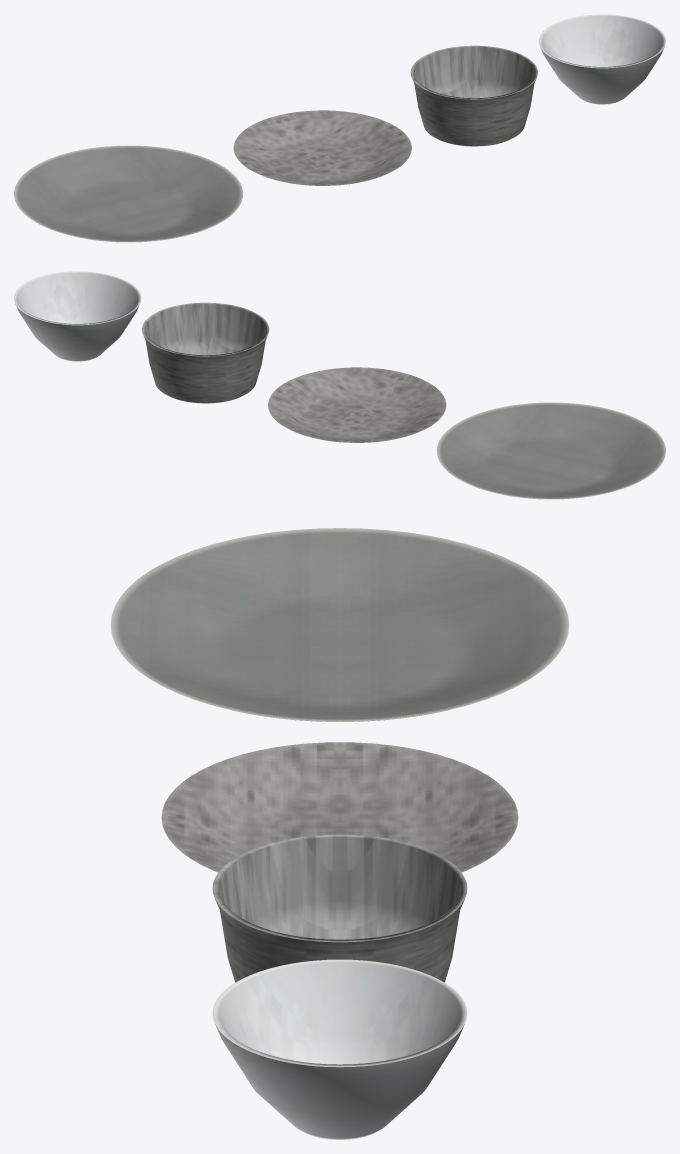
Rendered from GRL-09.glb.
3 views of the same model, one above another, from view 1: azimuth 30°, elevation 25°; view 2: azimuth 150°, elevation 25°; view 3: azimuth 270°, elevation 25° (orthographic). The views are drawn at different scales.
Size of the model in its own units: 0.854 by 0.07 by 0.27.
8 materials, 8 textured.
